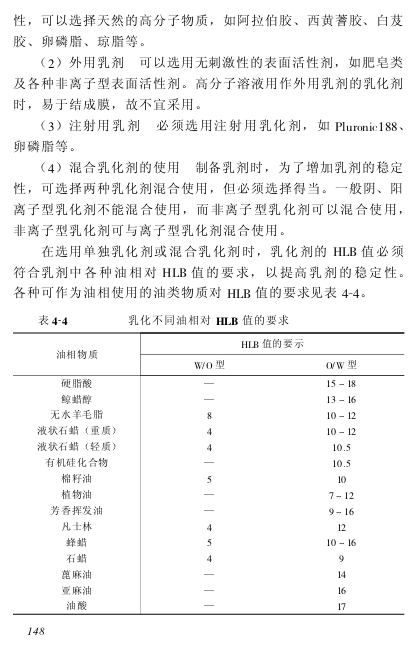table: (12, 332, 404, 615)
